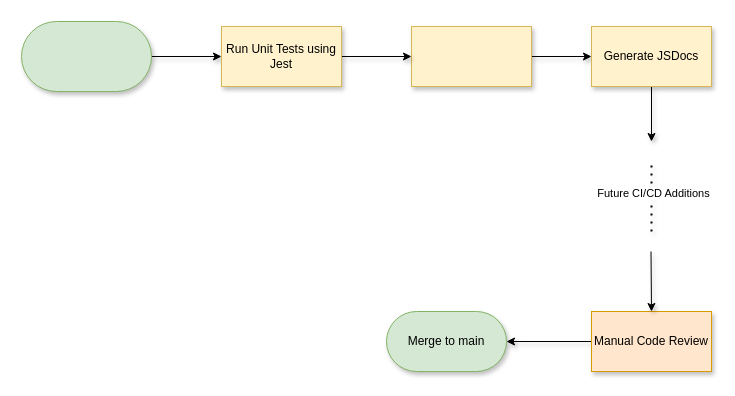
This 735x396 diagram has some shape labels left out. The centre of each missing label's shape, as x and y in pixels:
"Pull Request Started" goes at [87,57].
"Run Prettify" goes at [472,58].
